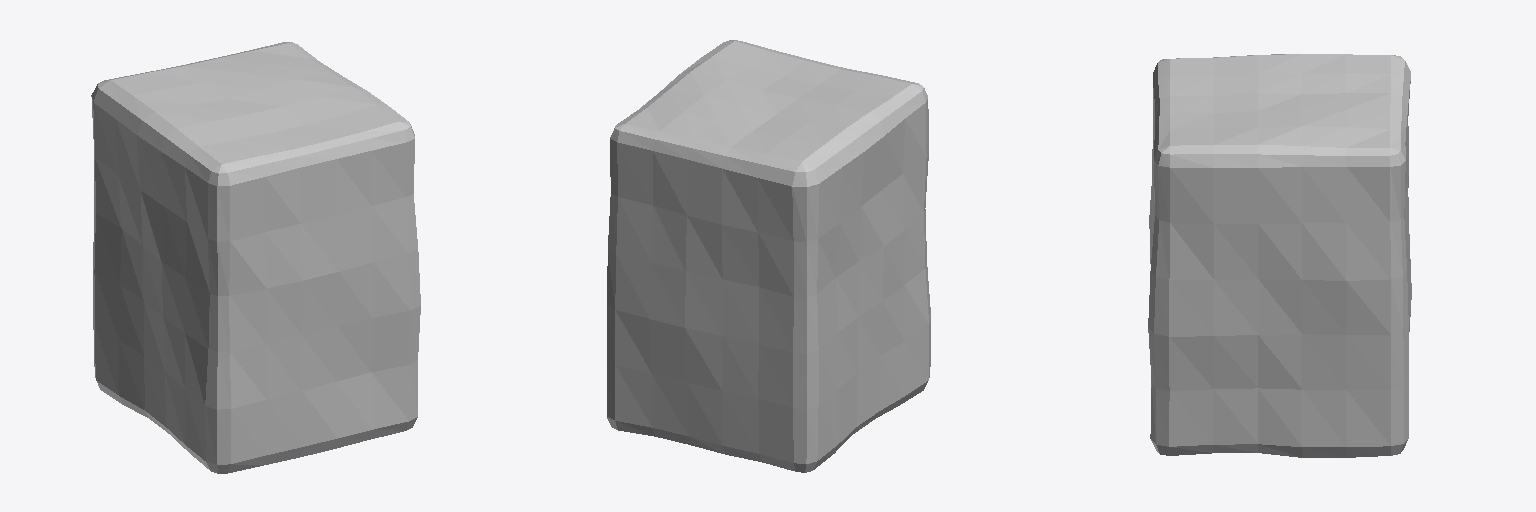
The model's file is beacon1.obj.
The picture shows the model from 3 angles: view 1: azimuth 30°, elevation 25°; view 2: azimuth 150°, elevation 25°; view 3: azimuth 270°, elevation 25°; orthographic projection.
Parts seen in each view (by area): view 1: beacon; view 2: beacon; view 3: beacon.
Part boxes in pixels (bbox=[...]): beacon: bbox=[91, 42, 420, 473]; beacon: bbox=[607, 40, 930, 472]; beacon: bbox=[1148, 54, 1411, 457].
Size of the model in its own units: 1.44 by 2.01 by 1.52.